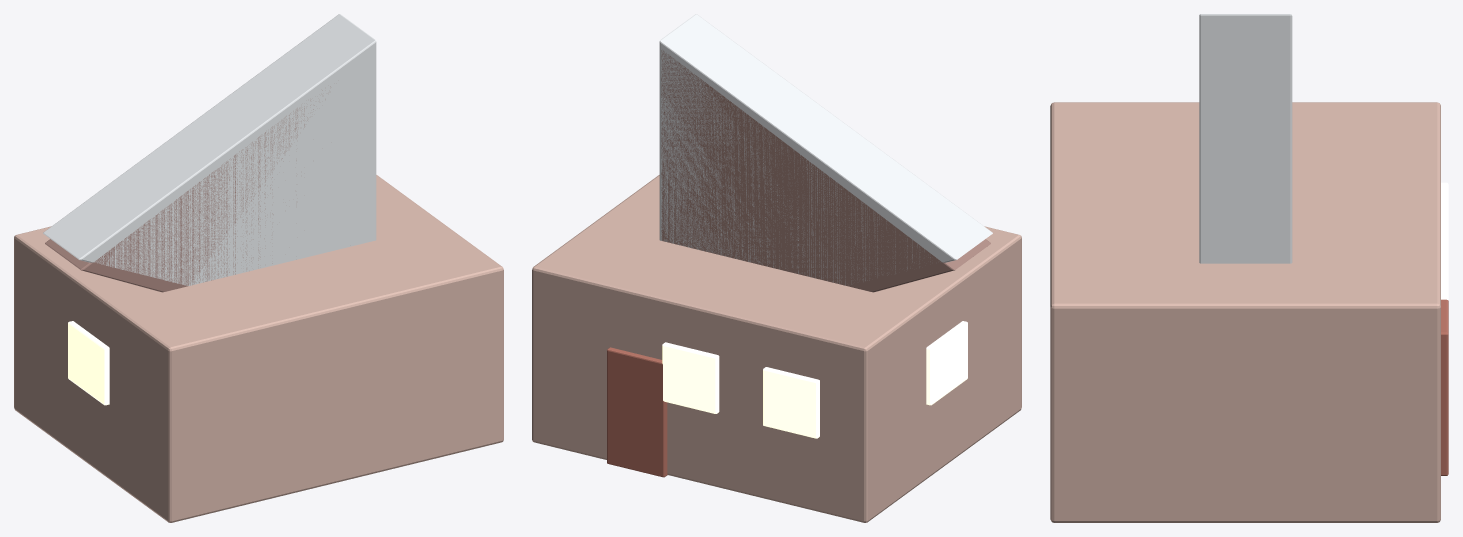
The model's file is house_c.glb.
The picture shows the model from 3 angles, left to right: view 1: azimuth 30°, elevation 25°; view 2: azimuth 150°, elevation 25°; view 3: azimuth 270°, elevation 25°; orthographic projection. The views are drawn at different scales.
Visible parts, largest first — view 1: walls, snowcap, roof, winS; view 2: walls, snowcap, roof, door, win.001, win, winS; view 3: walls, snowcap, door, win.
Part boxes in pixels (x1,y1,x2,y2): walls: (14,175,503,522); snowcap: (43,14,376,285); roof: (45,86,330,292); winS: (68,321,109,405); walls: (532,175,1021,522); snowcap: (659,14,992,285); roof: (661,50,990,292); door: (607,347,667,477); win.001: (662,342,719,413); win: (763,367,819,438); winS: (926,321,967,405); walls: (1050,102,1440,522); snowcap: (1199,14,1292,263); door: (1441,299,1448,475); win: (1441,182,1448,245).
Bounding box in the file's own units: 5.67 × 5.55 × 4.28.
